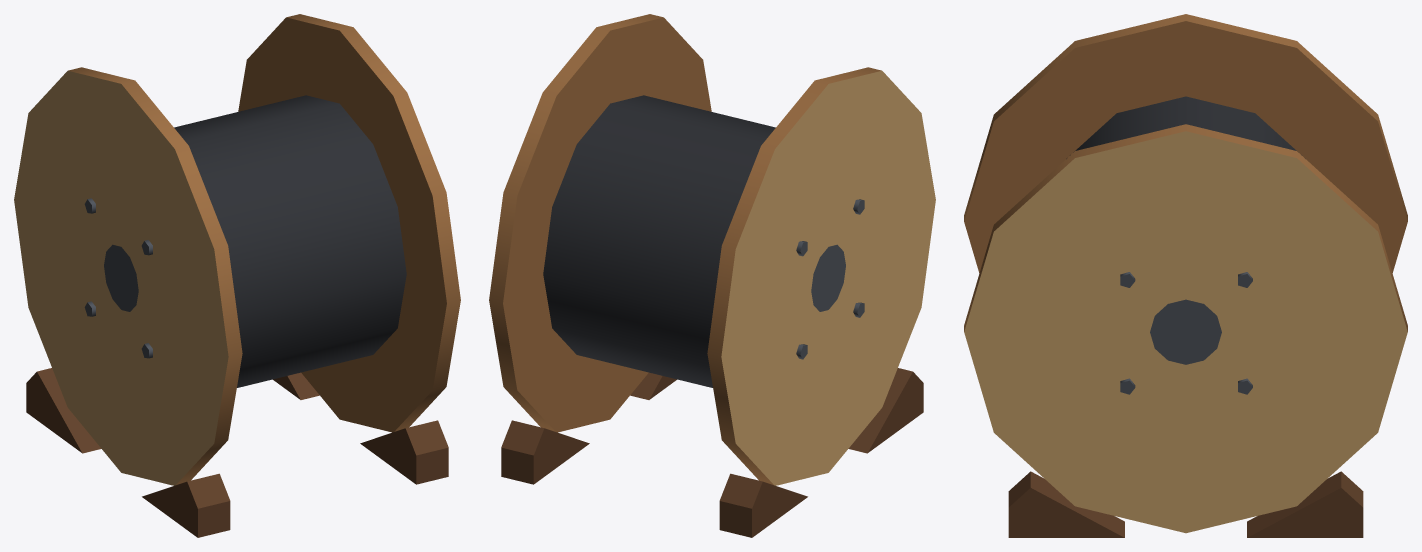
File: prop_cable_spool.glb
The picture shows the model from 3 angles, left to right: view 1: azimuth 30°, elevation 25°; view 2: azimuth 150°, elevation 25°; view 3: azimuth 270°, elevation 25°; orthographic projection. The views are drawn at different scales.
Visible parts, largest first — view 1: prop_cable_spool__mesh; view 2: prop_cable_spool__mesh; view 3: prop_cable_spool__mesh.
Boxes of the visible parts, x1,y1,x2,y2 form: prop_cable_spool__mesh: [14, 14, 460, 537]; prop_cable_spool__mesh: [489, 14, 935, 537]; prop_cable_spool__mesh: [964, 14, 1407, 537].
Bounding box in the file's own units: 1.08 × 1.6 × 1.6.
Materials: 1 (1 with a texture image).
